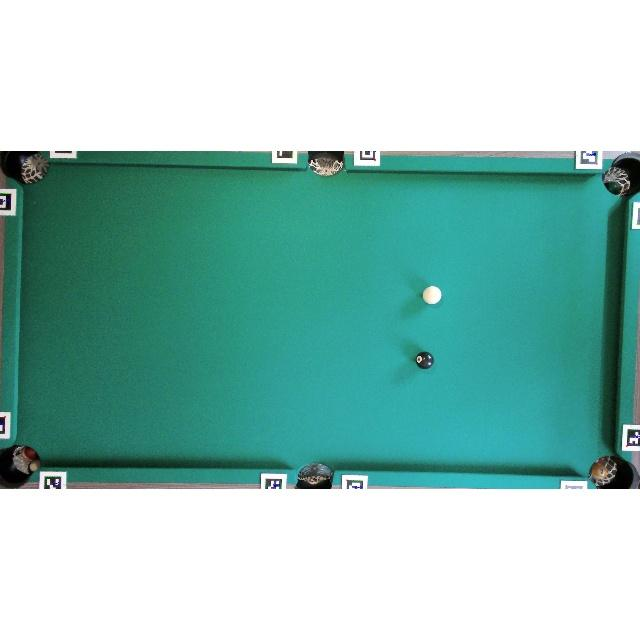cue ball: (422, 286, 442, 304)
other: (415, 351, 435, 369)
